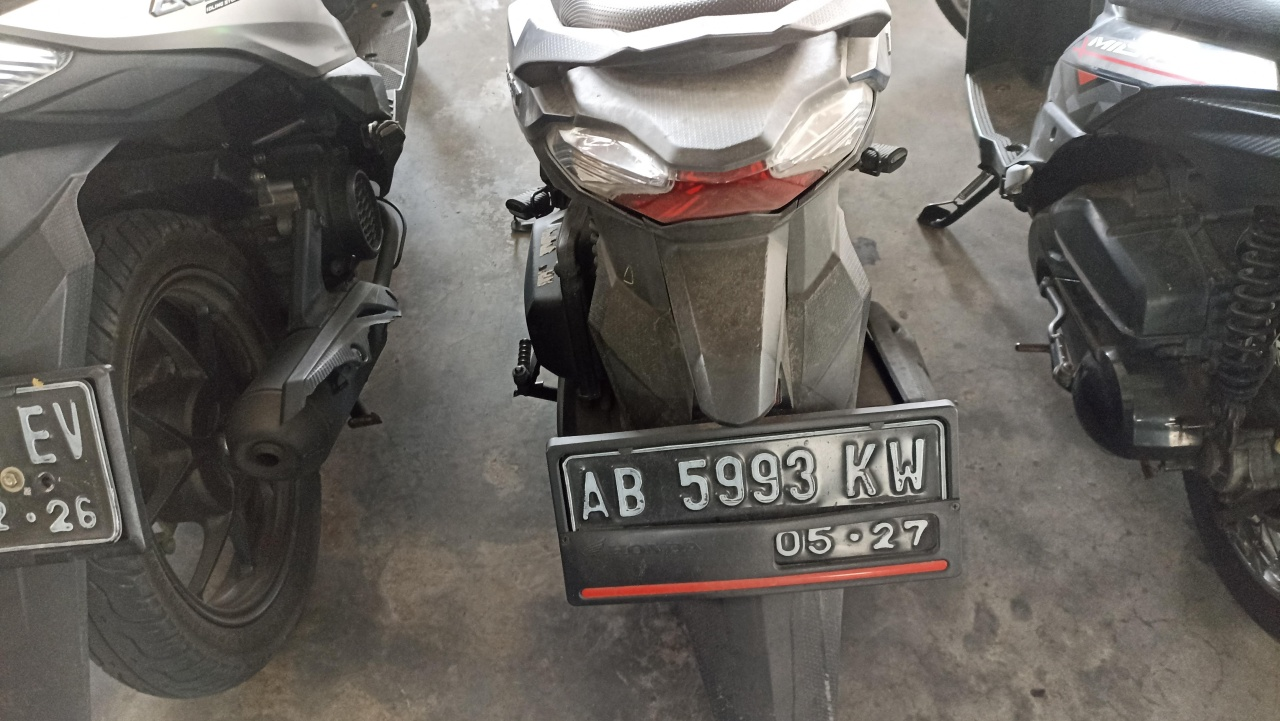plate: (558, 412, 958, 601)
